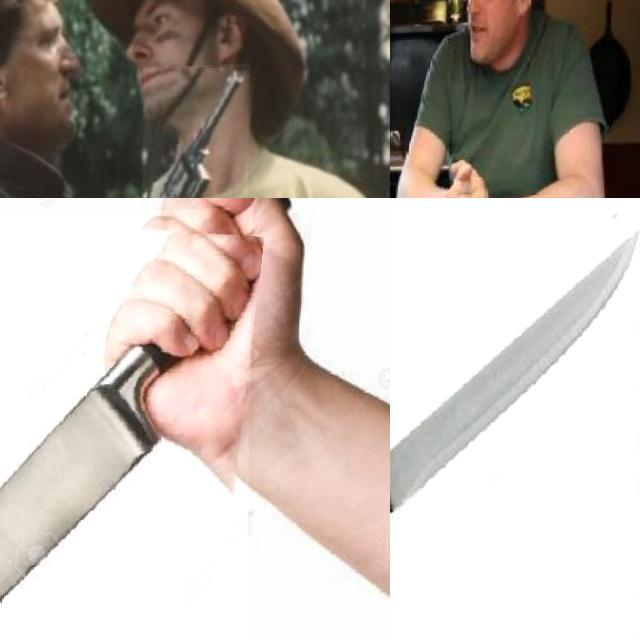-: (390, 198, 640, 640), (0, 210, 252, 640), (390, 54, 439, 192)
gun-knife-thesis - v11 Yolov5 augmented: (140, 67, 250, 198)
